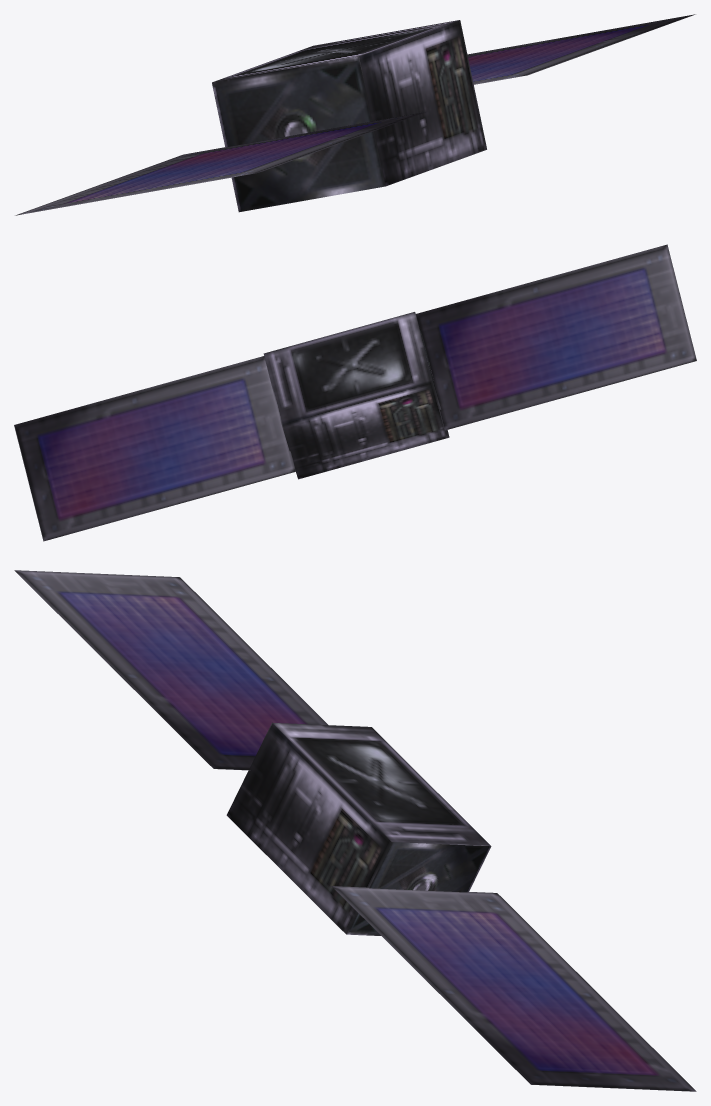
Rendered from satelite.glb.
3 renders of one model, top to bottom at view 1: azimuth 30°, elevation 25°; view 2: azimuth 150°, elevation 25°; view 3: azimuth 270°, elevation 25°, orthographic. The views are drawn at different scales.
Parts seen in each view (by area): view 1: satelite; view 2: satelite; view 3: satelite.
Boxes of the visible parts, x1,y1,x2,y2 form: satelite: (15, 14, 695, 215); satelite: (14, 244, 696, 541); satelite: (14, 570, 696, 1091).
Size of the model in its own units: 2388 by 838 by 1883.
1 material, 1 textured.
